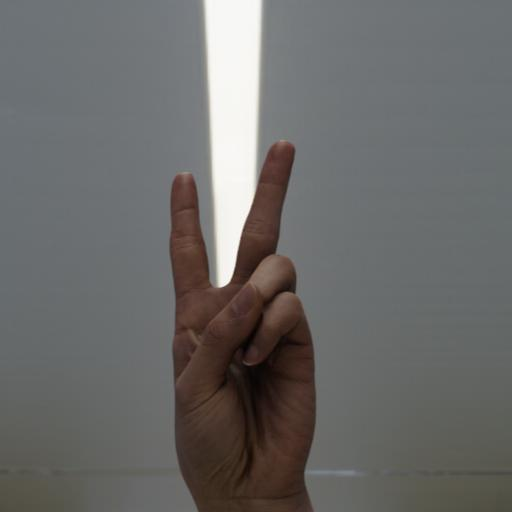V: (154, 132, 336, 500)
